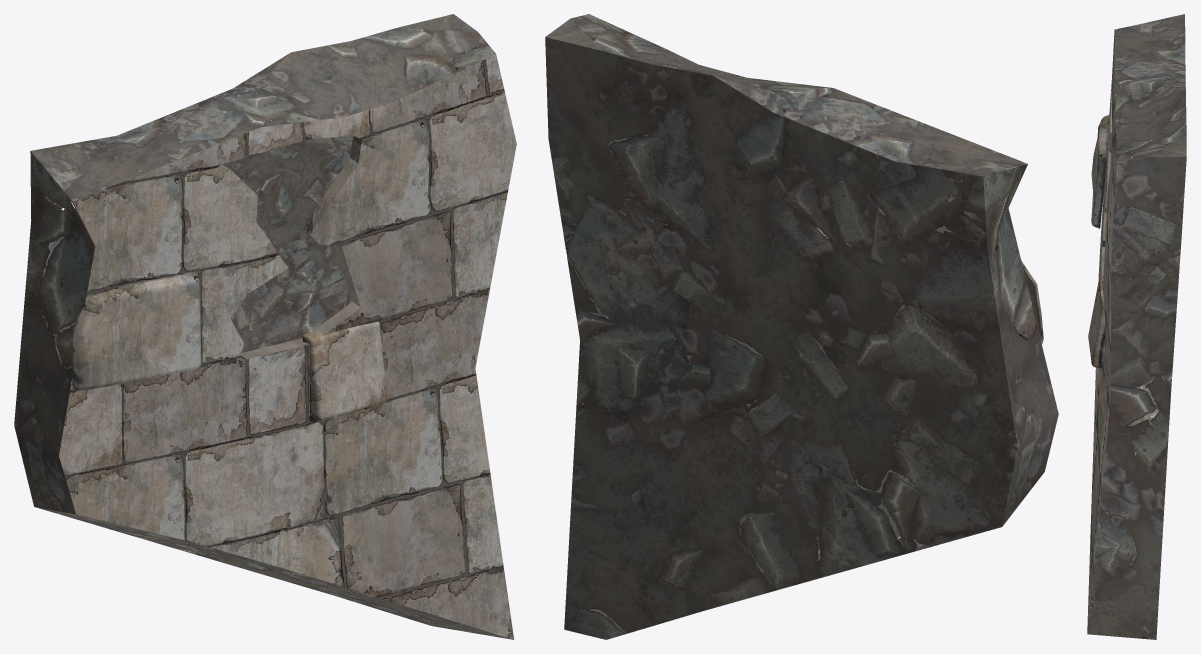
3 renders of one model, left to right at view 1: azimuth 30°, elevation 25°; view 2: azimuth 150°, elevation 25°; view 3: azimuth 270°, elevation 25°, orthographic. The views are drawn at different scales.
Visible parts, largest first — view 1: SM_KuldrasTower_DMG_05_LOD0; view 2: SM_KuldrasTower_DMG_05_LOD0; view 3: SM_KuldrasTower_DMG_05_LOD0.
Part boxes in pixels (x1,y1,x2,y2): SM_KuldrasTower_DMG_05_LOD0: (14,14,516,639); SM_KuldrasTower_DMG_05_LOD0: (545,14,1058,639); SM_KuldrasTower_DMG_05_LOD0: (1087,14,1186,639).
Size of the model in its own units: 18.37 by 22.21 by 4.14.
Materials: 2 (2 with a texture image).
